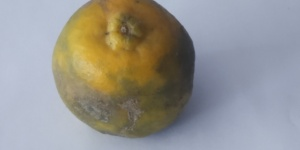BAD: (51, 1, 196, 141)
